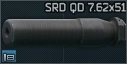SIG Sauer SRD762-QD 7.62x51 sound suppressor: (0, 0, 127, 64)
